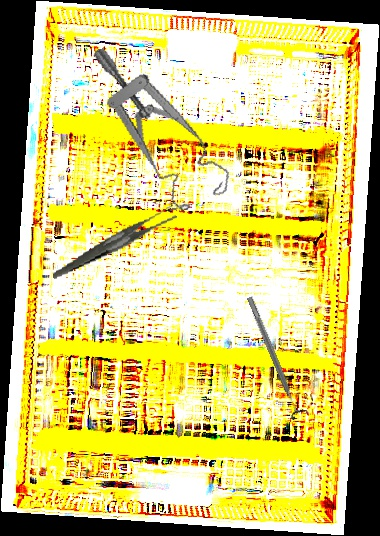Dressing Forceps: (44, 203, 184, 280)
Fixation Ring: (240, 293, 310, 421)
Speculum: (91, 25, 236, 224)
